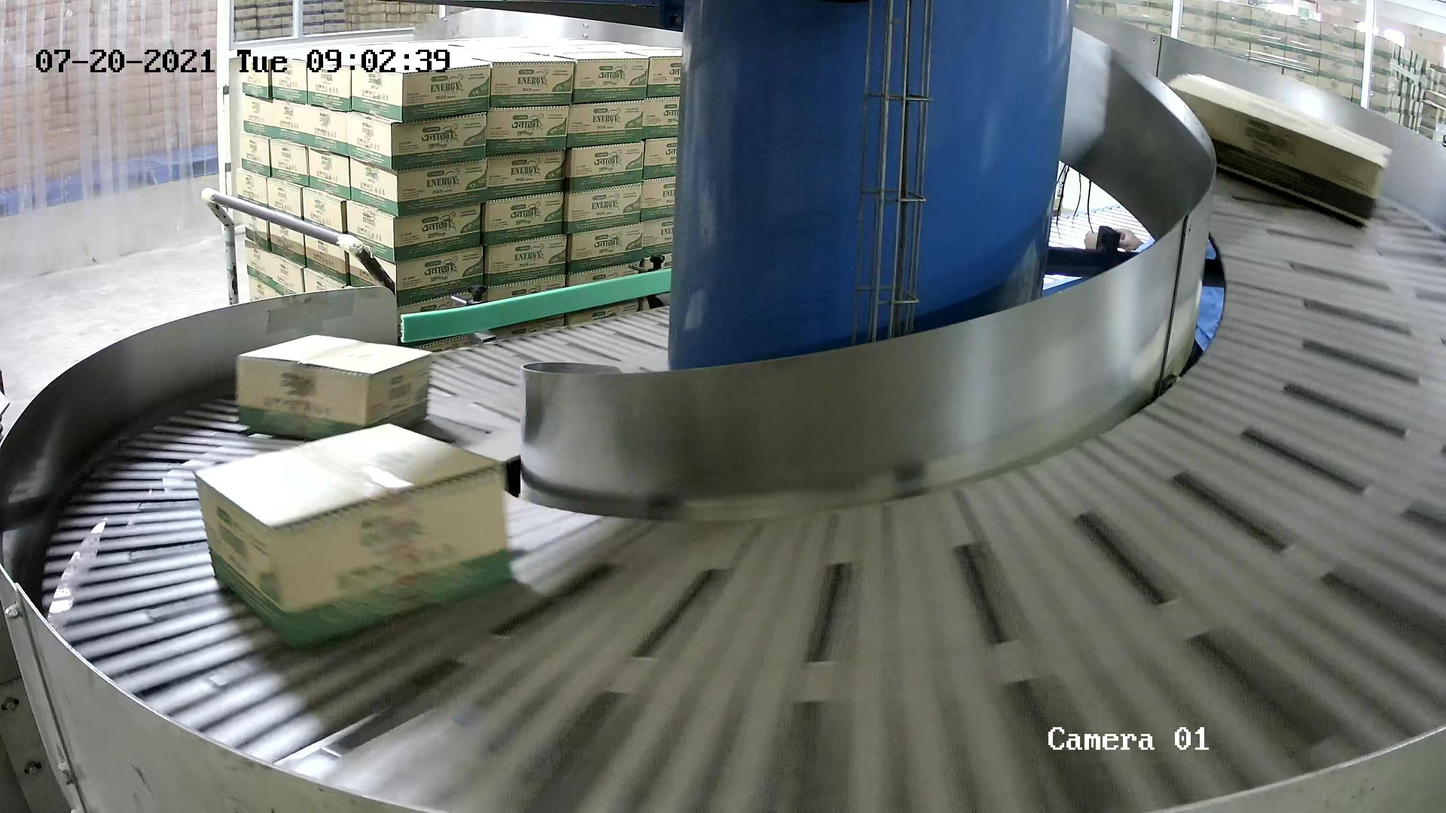Box: (195, 423, 517, 650), (1152, 72, 1394, 229), (235, 334, 432, 441)
